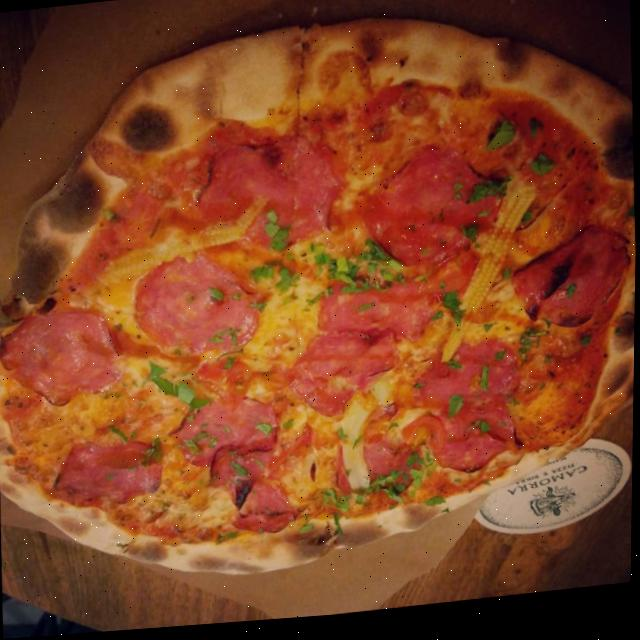pepperoni: (349, 144, 506, 279), (193, 132, 346, 262), (311, 252, 485, 358), (123, 247, 266, 366), (164, 393, 281, 521), (507, 229, 636, 344), (0, 304, 119, 415), (283, 327, 403, 428), (41, 430, 170, 517), (404, 339, 520, 432), (328, 435, 423, 515), (426, 410, 511, 478), (226, 490, 310, 546)
pizza: (0, 0, 640, 599)
